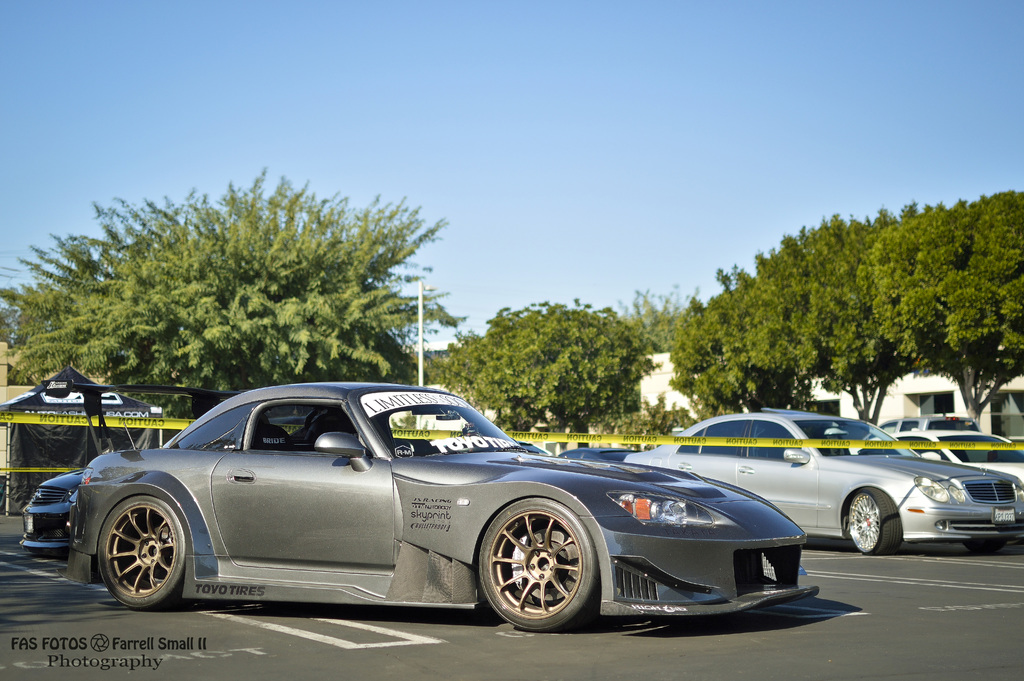Car: (64, 379, 820, 632), (523, 405, 1022, 557), (17, 432, 176, 557)
